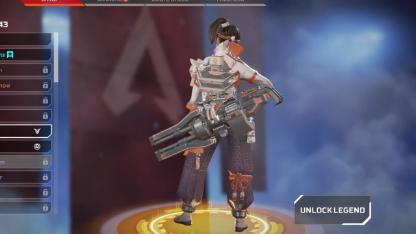Target: (183, 15, 273, 195)
